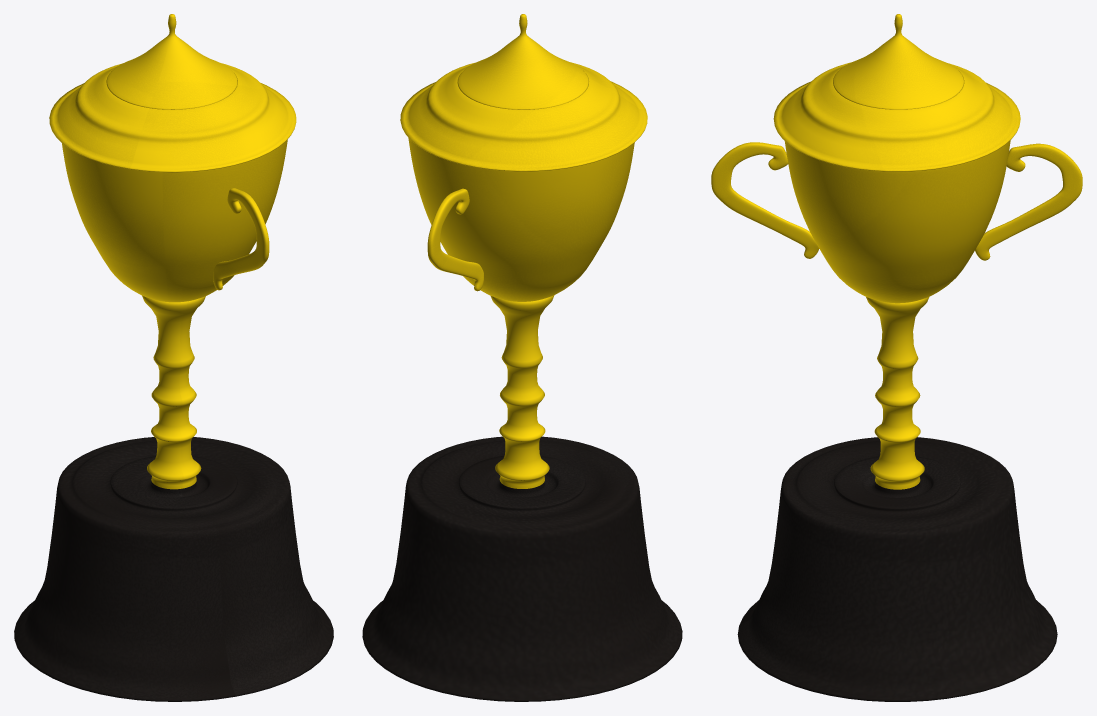
File: trophy.obj
3 views of the same model, side by side, from view 1: azimuth 30°, elevation 25°; view 2: azimuth 150°, elevation 25°; view 3: azimuth 270°, elevation 25° (orthographic).
Parts seen in each view (by area): view 1: Sphere.001_Sphere.003, Sphere.002_Sphere.004; view 2: Sphere.001_Sphere.003, Sphere.002_Sphere.004; view 3: Sphere.001_Sphere.003, Sphere.002_Sphere.004.
Part boxes in pixels (left/top/right/bottom): Sphere.001_Sphere.003: left=14, top=139, right=333, bottom=701; Sphere.002_Sphere.004: left=49, top=14, right=296, bottom=172; Sphere.001_Sphere.003: left=362, top=138, right=682, bottom=701; Sphere.002_Sphere.004: left=400, top=14, right=647, bottom=171; Sphere.001_Sphere.003: left=711, top=140, right=1082, bottom=701; Sphere.002_Sphere.004: left=773, top=14, right=1020, bottom=171.
Bounding box in the file's own units: 19.08 × 40.85 × 22.2.
11 materials, 11 textured.
